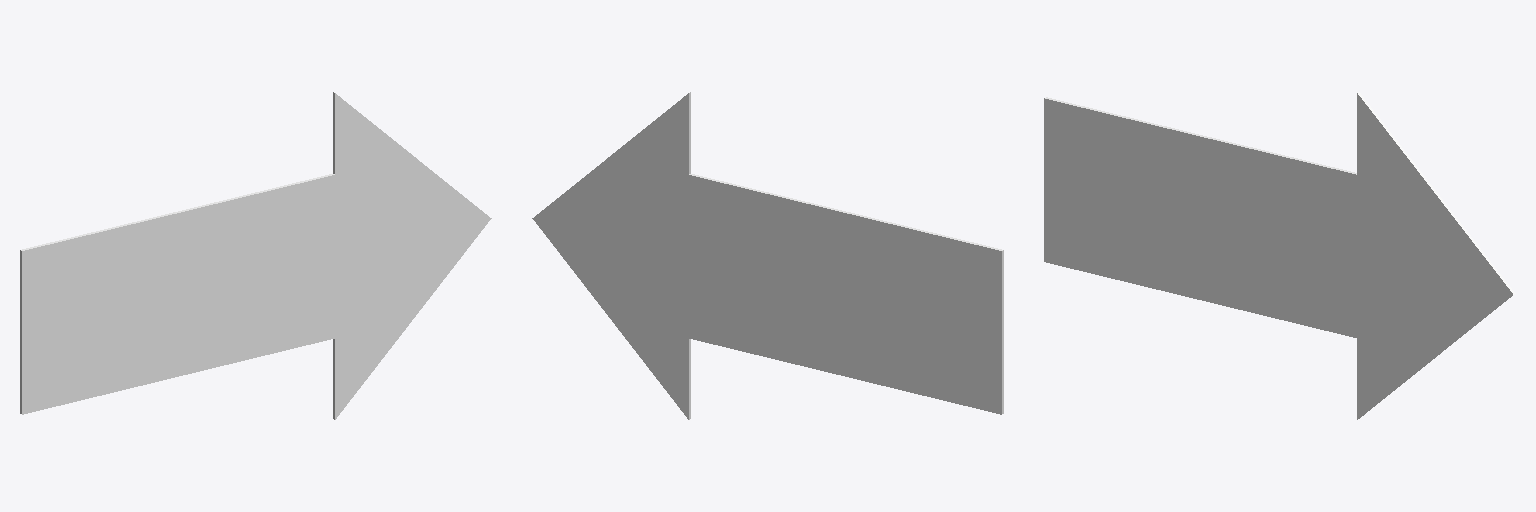
robot.urdf — arrow:
<?xml version="1.0"?>
<robot name="arrow">
  <link name="arrow">
    <contact>
        <lateral_friction value="1"/>
    </contact>
    <inertial>
      <origin rpy="0 0 0" xyz="0 0 0"/>
      <mass value=".0"/>
      <inertia ixx="1" ixy="0" ixz="0" iyy="0" iyz="0" izz="0"/>
    </inertial>
    <visual>
      <origin rpy="0 0 0" xyz="0 0 0"/>
      <geometry>
        <mesh filename="arrow.obj" scale="0.5 0.5 0.5"/>
      </geometry>
      <material name="blockmat">
        <color rgba="1 1 1 1"/>
      </material>
    </visual>
    <collision>
      <origin rpy="0 0 0" xyz="0 0 0"/>
      <geometry>
        <mesh filename="arrow.obj" scale="0.5 0.5 0.5"/>
      </geometry>
    </collision>
  </link>
</robot>

--- Render facts (derived) ---
Views: 3 orthographic renders of the robot side by side, from view 1: azimuth 30°, elevation 25°; view 2: azimuth 150°, elevation 25°; view 3: azimuth 330°, elevation 25°.
Robot: arrow — 1 links, 0 joints (none); root link arrow; default pose: all joints at 0.
Links seen in each view (by area): view 1: arrow; view 2: arrow; view 3: arrow.
Boxes of the visible links, x1=… form: arrow: x1=20, y1=92, x2=491, y2=419; arrow: x1=532, y1=92, x2=1003, y2=419; arrow: x1=1044, y1=92, x2=1515, y2=419.
Size in the robot's own frame: 3 by 0.02 by 2 metres.
Meshes: 1 distinct files referenced, 1 mesh visuals loaded (1 OBJ).
